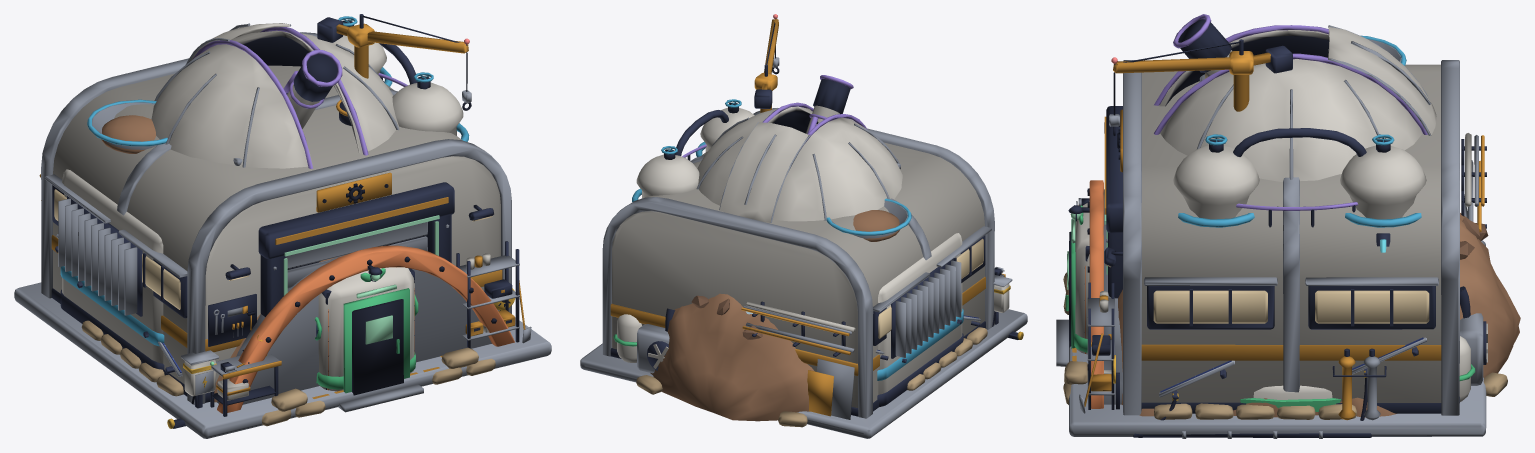
The model's file is annex_low.glb.
The picture shows the model from 3 angles, left to right: view 1: azimuth 30°, elevation 25°; view 2: azimuth 150°, elevation 25°; view 3: azimuth 270°, elevation 25°; orthographic projection. The views are drawn at different scales.
Parts seen in each view (by area): view 1: workshop, observatory_dome, bunker, oxygen, garden, solar_array; view 2: workshop, observatory_dome, bunker, oxygen, solar_array, garden; view 3: workshop, observatory_dome, oxygen, bunker, garden, solar_array, observatory.
Boxes of the visible parts, bbox=[...] form: workshop: bbox=[14, 14, 551, 438]; observatory_dome: bbox=[151, 23, 399, 168]; bunker: bbox=[81, 245, 514, 426]; oxygen: bbox=[58, 16, 469, 369]; garden: bbox=[315, 267, 423, 412]; solar_array: bbox=[55, 234, 515, 428]; workshop: bbox=[580, 14, 1027, 438]; observatory_dome: bbox=[696, 75, 902, 222]; bunker: bbox=[636, 293, 987, 427]; oxygen: bbox=[584, 99, 963, 434]; solar_array: bbox=[875, 275, 1023, 362]; garden: bbox=[613, 311, 752, 362]; workshop: bbox=[1069, 39, 1487, 436]; observatory_dome: bbox=[1154, 14, 1436, 181]; oxygen: bbox=[1173, 35, 1486, 427]; bunker: bbox=[1063, 180, 1520, 419]; garden: bbox=[1056, 201, 1475, 411]; solar_array: bbox=[1112, 337, 1426, 438]; observatory: bbox=[1236, 202, 1358, 227].
Size of the model in its own units: 8.22 by 6.88 by 8.35.
